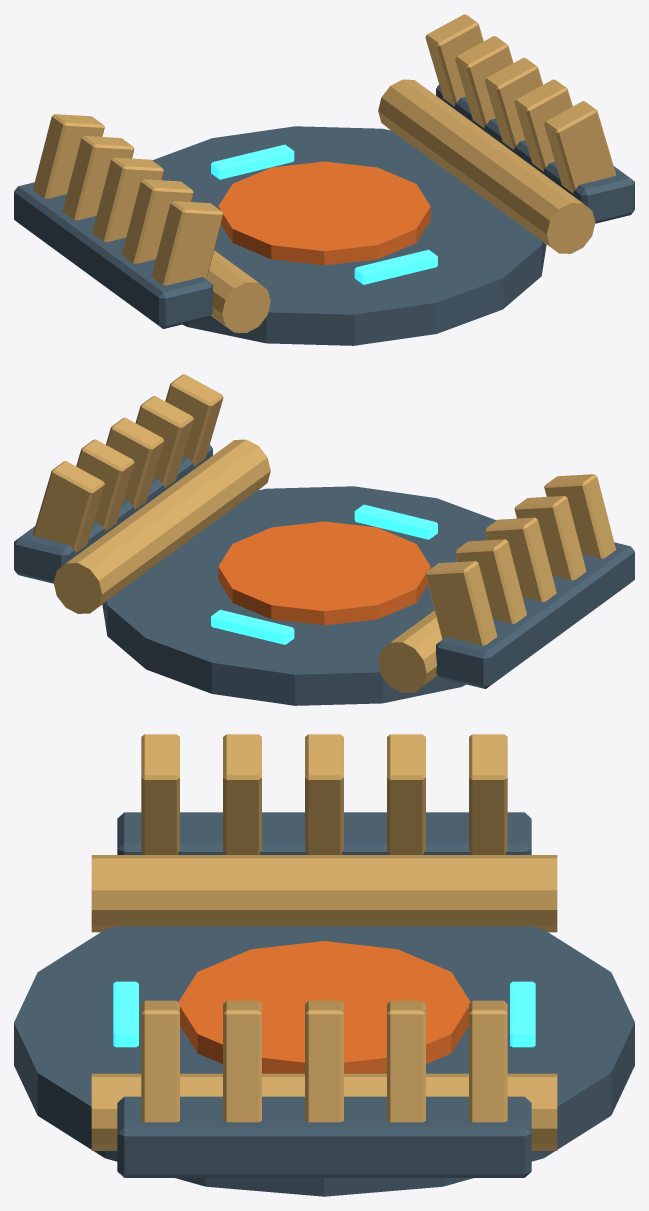
Rendered from trap.glb.
3 views of the same model, one above another, from view 1: azimuth 30°, elevation 25°; view 2: azimuth 150°, elevation 25°; view 3: azimuth 270°, elevation 25° (orthographic). The views are drawn at different scales.
Visible parts, largest first — view 1: WildsparkTrapBase, WildsparkJawLeft, WildsparkJawRight; view 2: WildsparkTrapBase, WildsparkJawLeft, WildsparkJawRight; view 3: WildsparkTrapBase, WildsparkJawRight, WildsparkJawLeft.
Boxes of the visible parts, x1,y1,x2,y2 form: WildsparkTrapBase: [152, 79, 595, 345]; WildsparkJawLeft: [14, 114, 223, 328]; WildsparkJawRight: [425, 14, 634, 223]; WildsparkTrapBase: [53, 439, 496, 705]; WildsparkJawLeft: [425, 474, 634, 688]; WildsparkJawRight: [14, 374, 223, 583]; WildsparkTrapBase: [14, 855, 634, 1196]; WildsparkJawRight: [117, 1000, 531, 1177]; WildsparkJawLeft: [117, 734, 531, 854].
Bounding box in the file's own units: 0.88 × 0.247 × 0.72.
